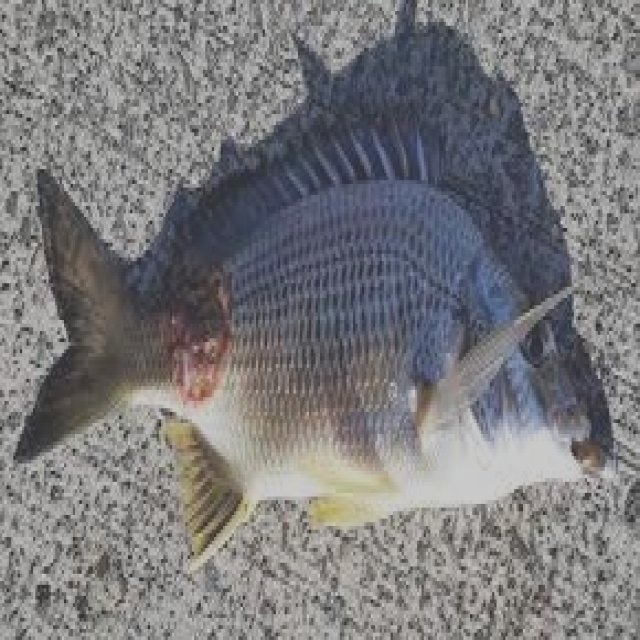EUS Disease: (18, 165, 604, 556), (129, 195, 271, 474)
